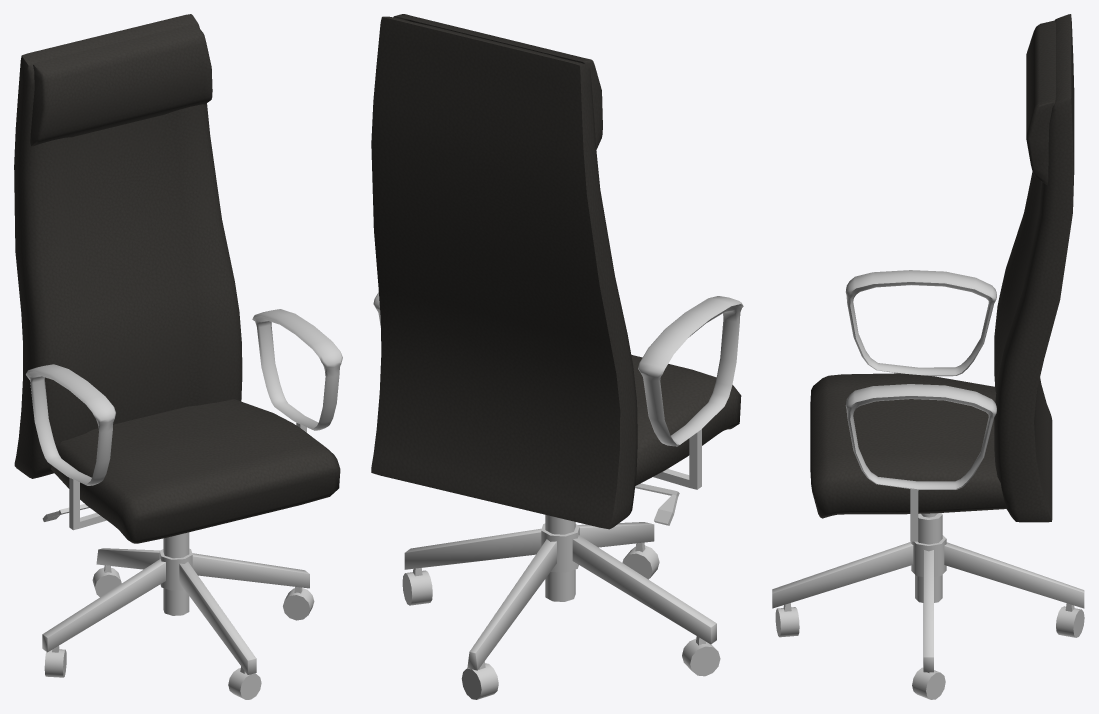
The model's file is DeskChair.fbx.
3 views of the same model, side by side, from view 1: azimuth 30°, elevation 25°; view 2: azimuth 150°, elevation 25°; view 3: azimuth 270°, elevation 25° (orthographic). The views are drawn at different scales.
Parts seen in each view (by area): view 1: DeskChair_Seat_LOD_0, DeskChair_Base_LOD_0; view 2: DeskChair_Seat_LOD_0, DeskChair_Base_LOD_0; view 3: DeskChair_Seat_LOD_0, DeskChair_Base_LOD_0.
Boxes of the visible parts, x1=… form: DeskChair_Seat_LOD_0: x1=14, y1=14, x2=342, y2=615; DeskChair_Base_LOD_0: x1=42, y1=548, x2=314, y2=699; DeskChair_Seat_LOD_0: x1=371, y1=14, x2=743, y2=601; DeskChair_Base_LOD_0: x1=402, y1=522, x2=720, y2=699; DeskChair_Seat_LOD_0: x1=810, y1=14, x2=1074, y2=602; DeskChair_Base_LOD_0: x1=772, y1=535, x2=1084, y2=699.
Size of what is drawn, in the model's own units: 74.14 by 147 by 71.84.
